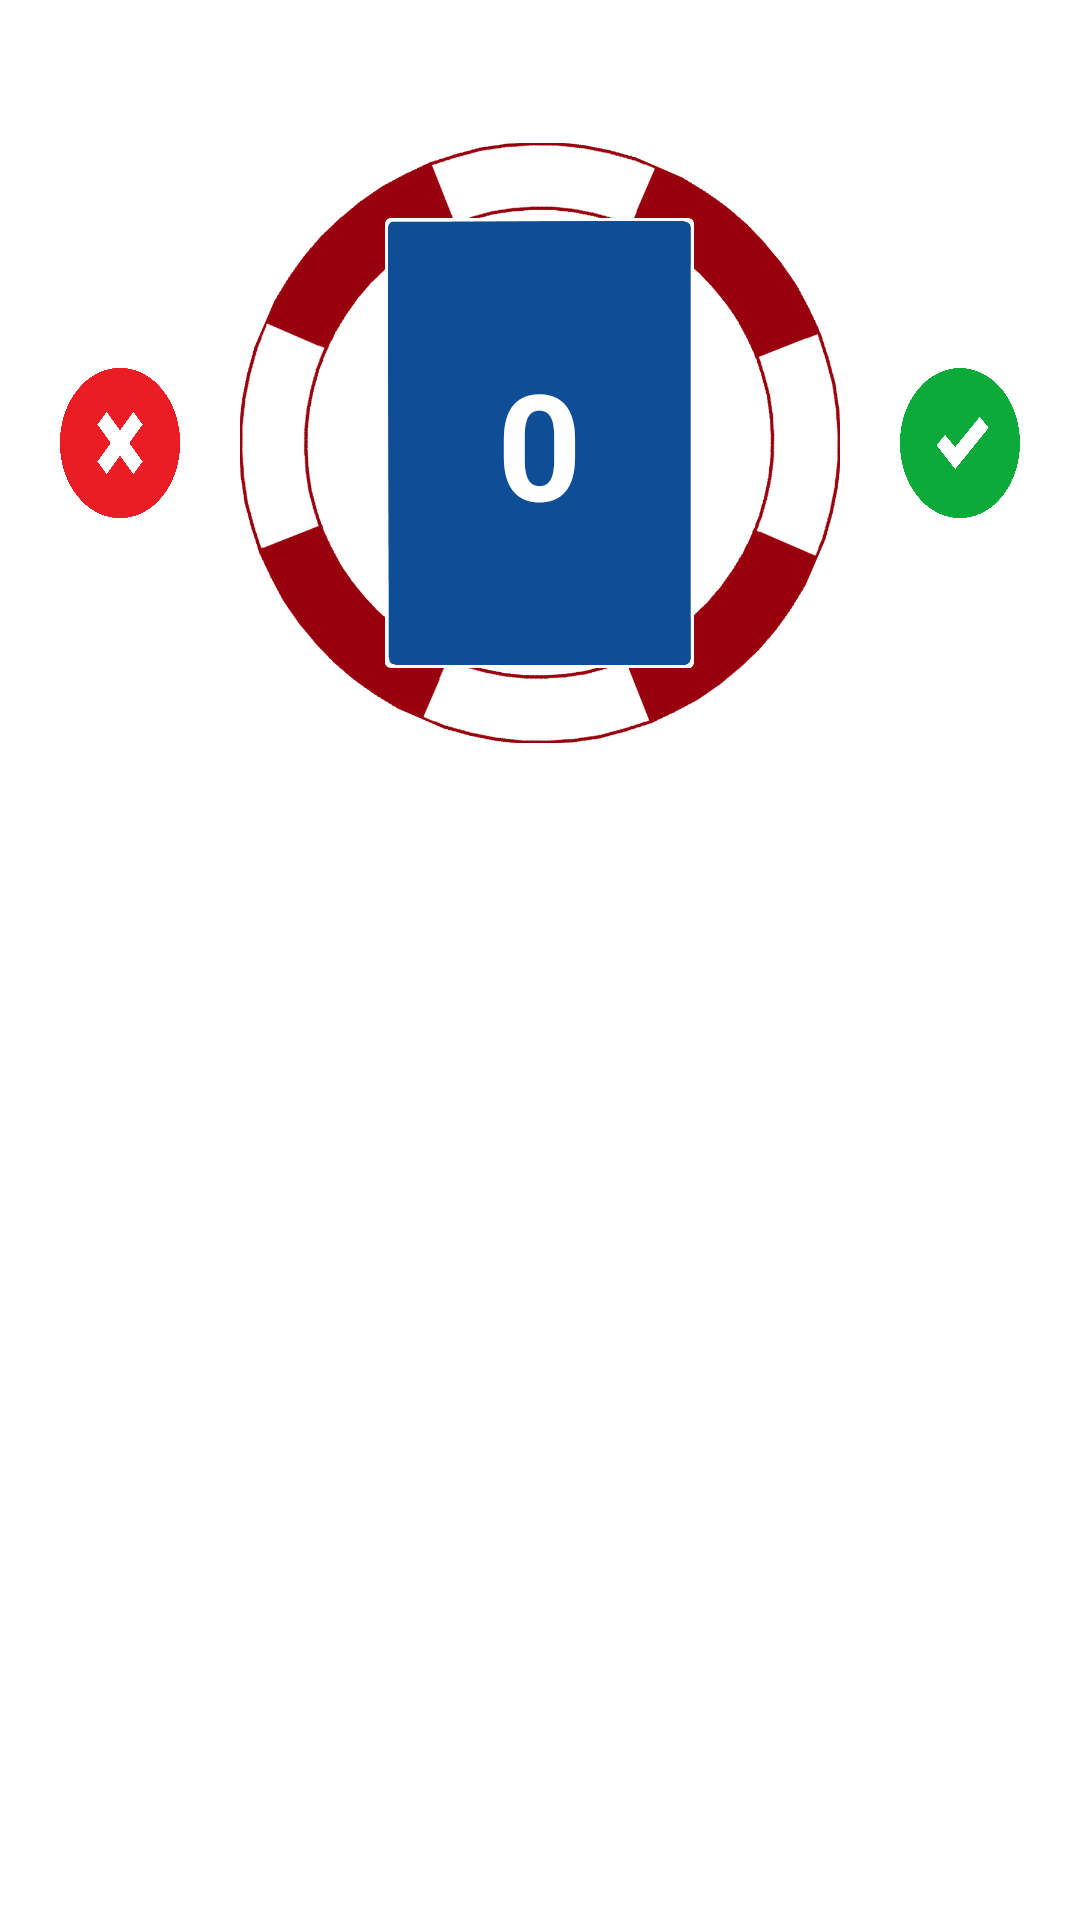

Where to tap for icons on this 1080×1920 app screen, as (x=x, y=y):
loss: (x=120, y=443)
win: (x=960, y=443)
